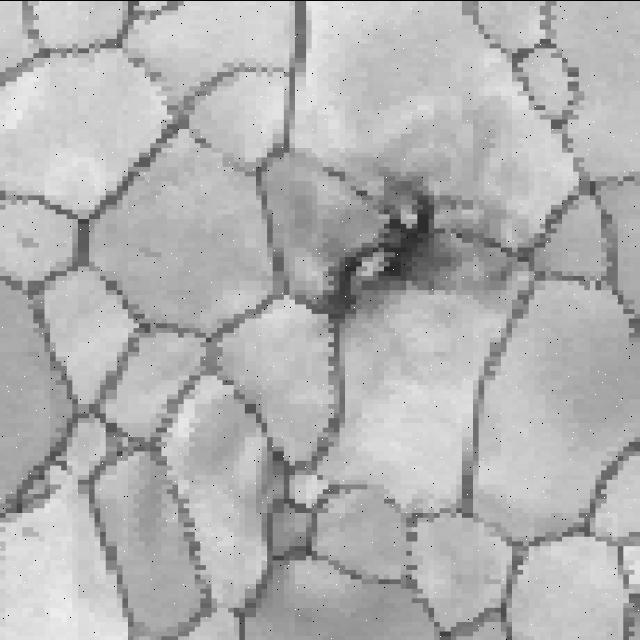good_void: (281, 109, 520, 372)
